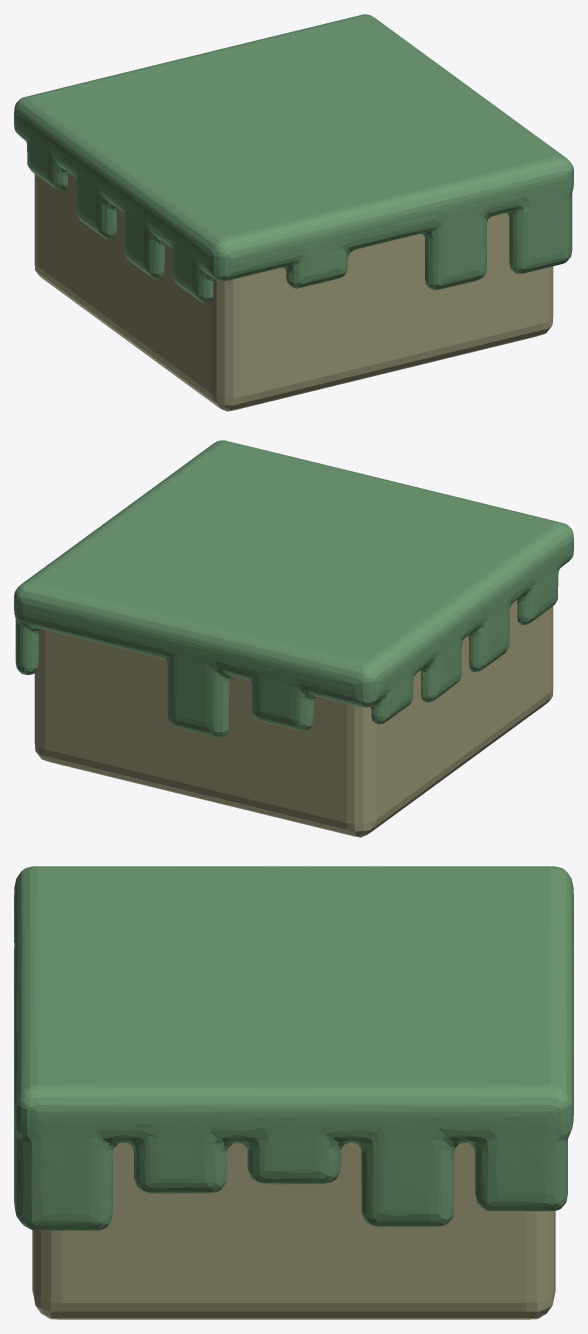
The model's file is Block_3_POGGERS.fbx.
3 renders of one model, top to bottom at view 1: azimuth 30°, elevation 25°; view 2: azimuth 150°, elevation 25°; view 3: azimuth 270°, elevation 25°, orthographic. The views are drawn at different scales.
Parts seen in each view (by area): view 1: polySurface4; view 2: polySurface4; view 3: polySurface4.
Part boxes in pixels (left/top/right/bottom): polySurface4: left=14, top=14, right=573, bottom=411; polySurface4: left=14, top=440, right=573, bottom=837; polySurface4: left=14, top=866, right=573, bottom=1319.
Size of the model in its own units: 107 by 51.1 by 107.
